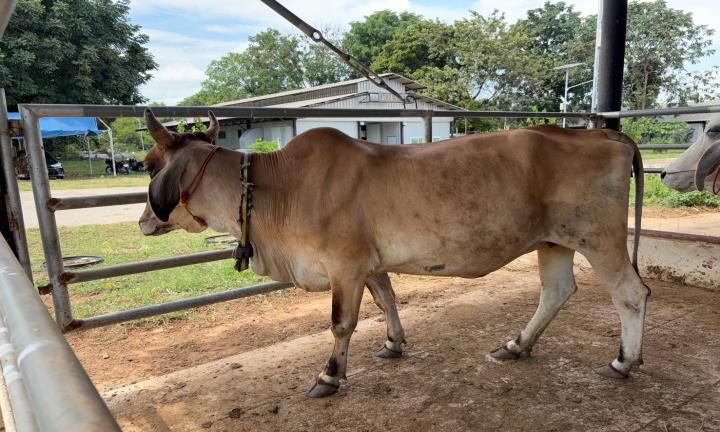Brahman: (139, 109, 648, 397)
